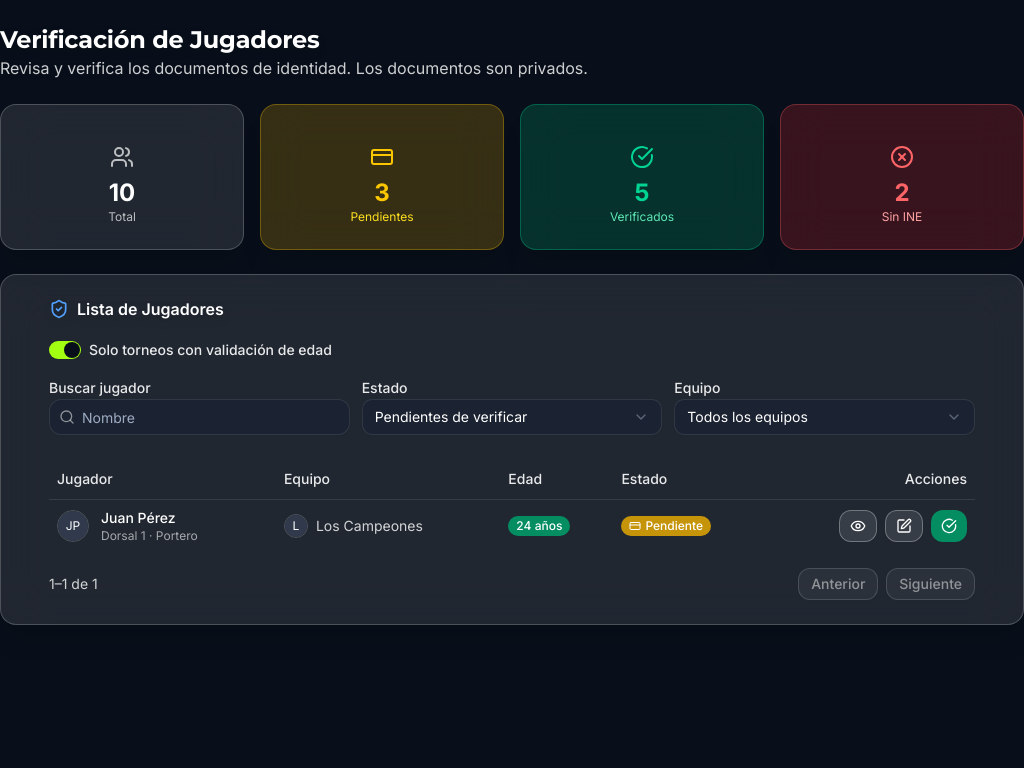
Test: VerificationPage › shows the 422 message when the API refuses the verification
The width and height of the screenshot is (1024, 768).
Click the button named "Marcar verificado a Juan Pérez" at (949, 526), box [931, 510, 967, 542]
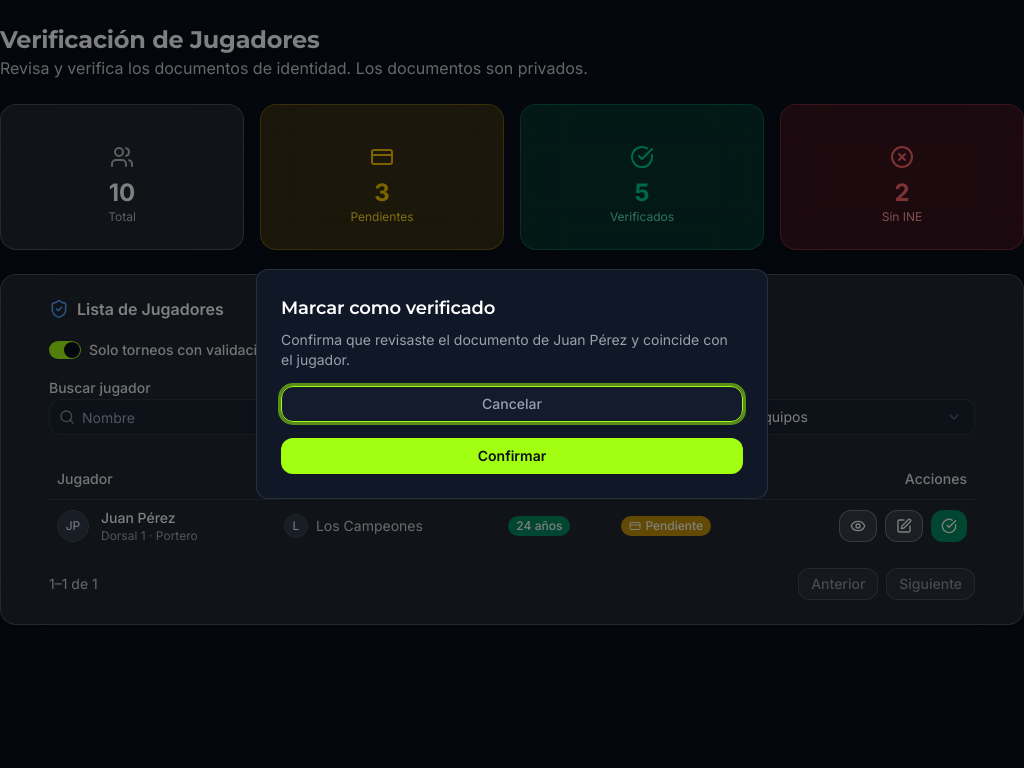
Click the button "Confirmar" at (512, 456), box [281, 438, 743, 474]
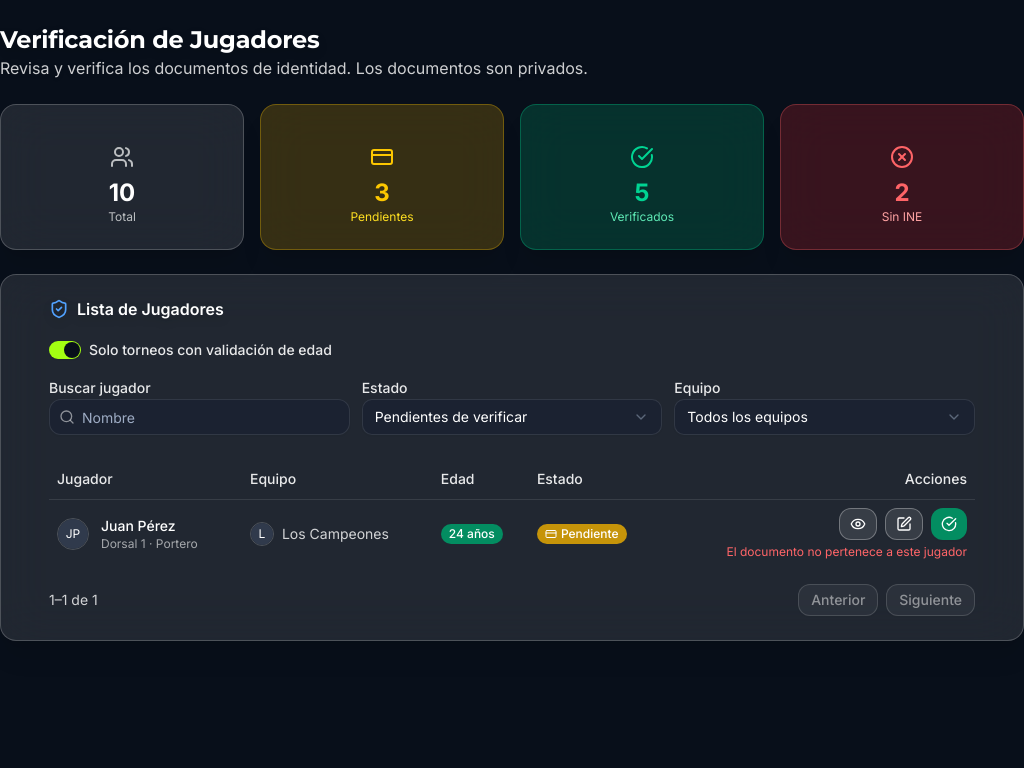
Check: the message reads "El documento no pertenece a este jugador", box [726, 544, 967, 559]
